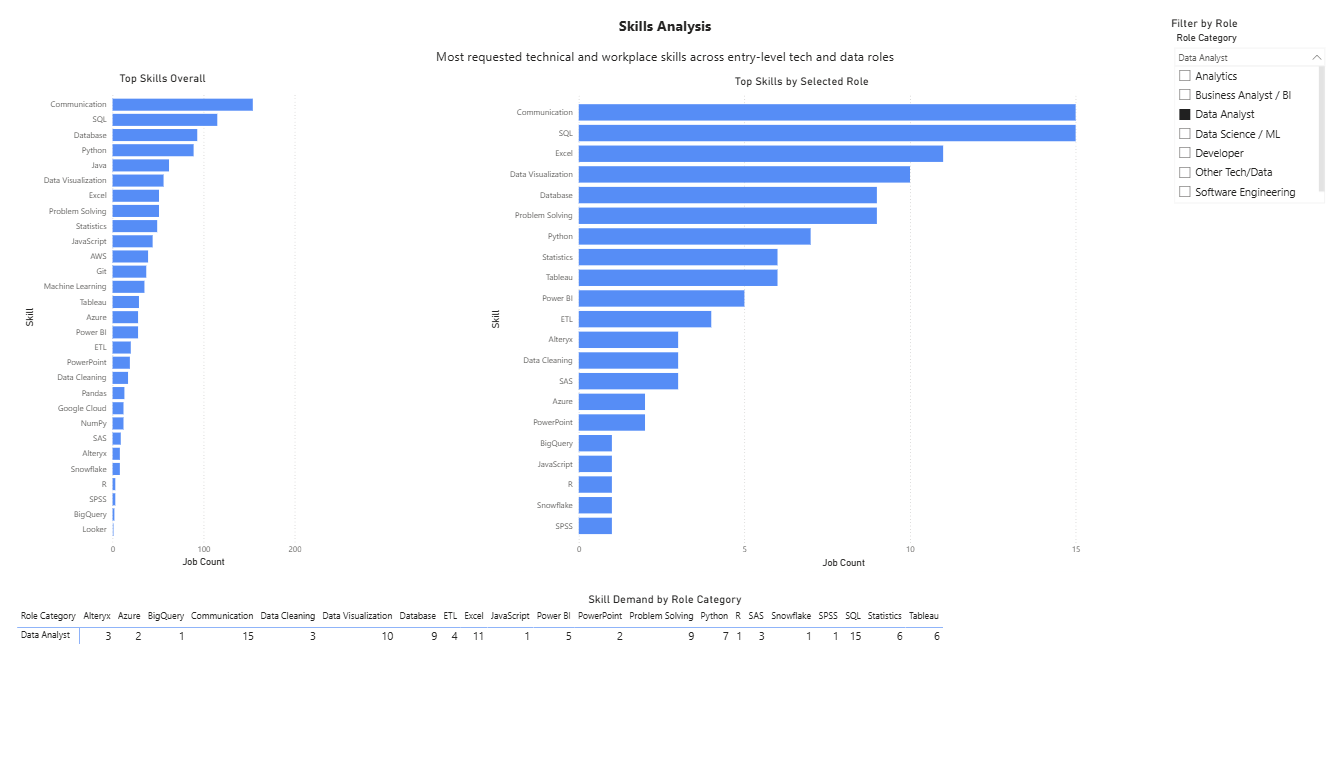

The dashboard page shown, as its layout file describes it:
{"tool":"powerbi","page":{"name":"Skills Analysis","canvas":[2000,1150],"ordinal":1},"visuals":[{"type":"textbox","box":[860,21.4,280,48.6],"z":0},{"type":"textbox","box":[527.5,70,945,42.5],"z":1000},{"type":"clusteredBarChart","title":"Top Skills Overall","fields":{"Category":["skill_summary_dashboard.technical_skill"],"Y":["Sum(skill_summary_dashboard.job_count)"]},"box":[31.7,110,426.7,750],"z":2000},{"type":"pivotTable","title":"Skill Demand by Role Category","fields":{"Rows":["skills_by_role_dashboard.role_category"],"Values":["Sum(skills_by_role_dashboard.job_count)"],"Columns":["skills_by_role_dashboard.technical_skill"]},"box":[22.5,892.5,1955,232.5],"z":3000},{"type":"slicer","title":"Filter by Role","fields":{"Values":["skills_by_role_dashboard.role_category"]},"box":[1753.8,26.2,246.2,87.5],"z":4000},{"type":"clusteredBarChart","title":"Top Skills by Selected Role","fields":{"Category":["skills_by_role_dashboard.technical_skill"],"Y":["Sum(skills_by_role_dashboard.job_count)"]},"box":[732,114,946,746],"z":5000},{"type":"textbox","box":[1763.8,113.8,227.5,62.5],"z":5001}]}

Visuals, with their boxes in screenshot pixels (x1, y1, x2, y2), scaled from the page's 2000x1150 canvas onto the 1327x758 screenshot:
textbox: [571,14,756,46]
textbox: [350,46,977,74]
"Top Skills Overall" clusteredBarChart: [21,73,304,567]
"Skill Demand by Role Category" pivotTable: [15,588,1312,742]
"Filter by Role" slicer: [1164,17,1326,75]
"Top Skills by Selected Role" clusteredBarChart: [486,75,1113,567]
textbox: [1170,75,1321,116]
